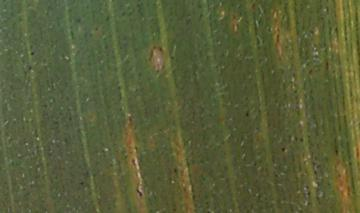tarspot: (244, 110, 250, 117), (172, 167, 178, 174), (281, 148, 285, 152), (29, 52, 34, 55), (28, 66, 31, 70)
